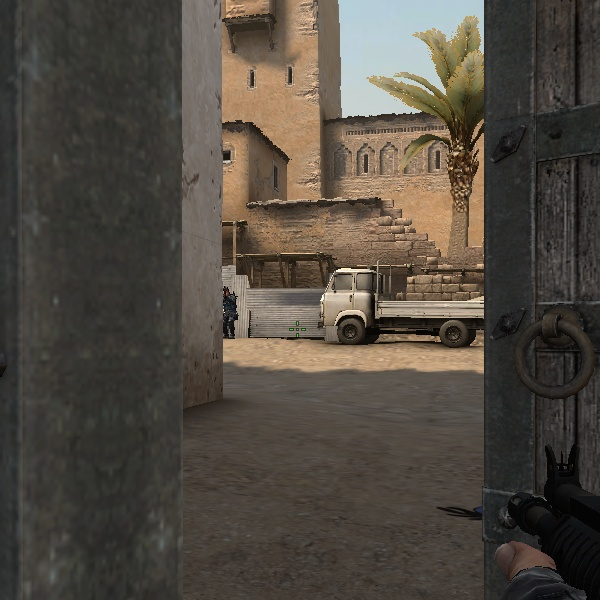ct_body: (222, 285, 239, 338)
ct_head: (223, 286, 230, 298)
